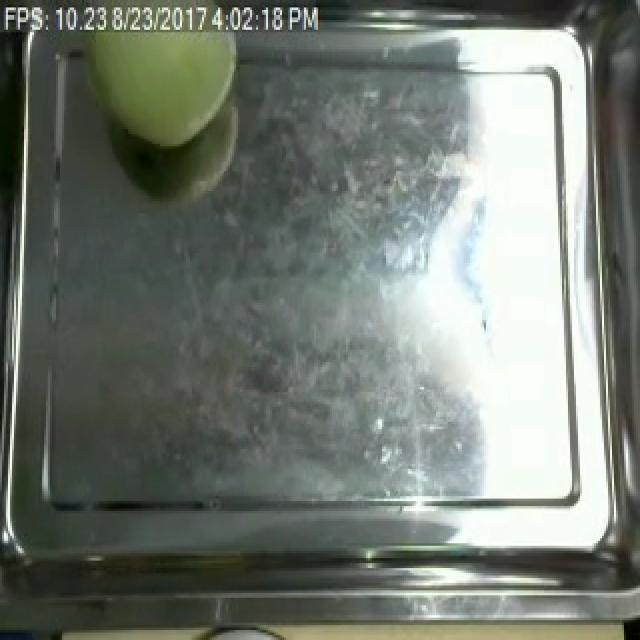50-_ripeness: (84, 2, 241, 162)
